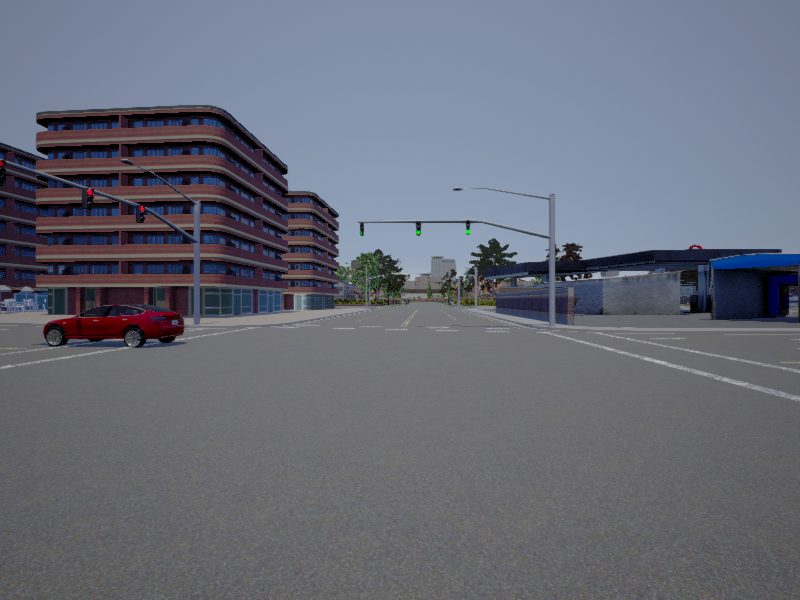Attacker: (45, 303, 185, 348)
